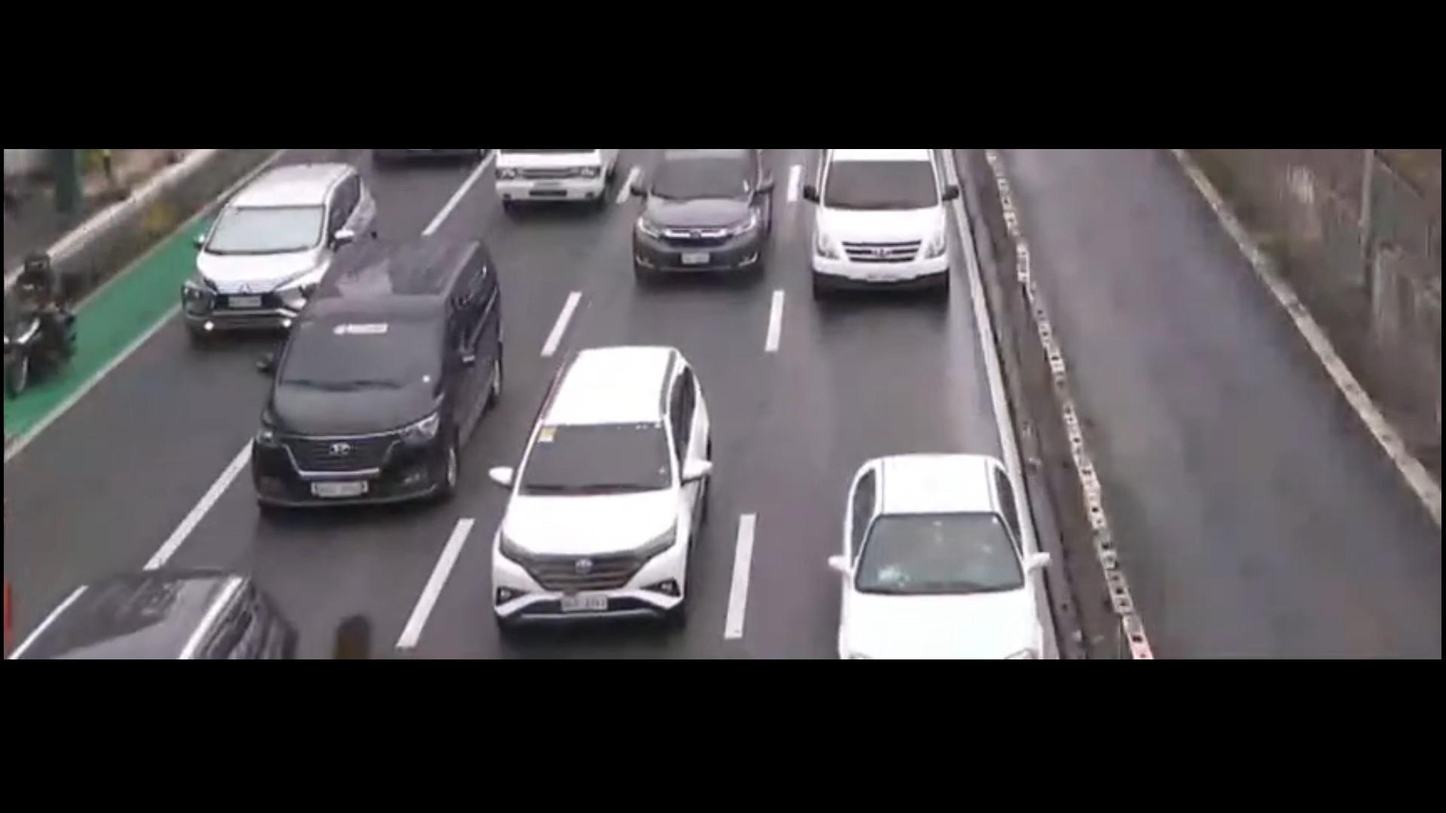Motorcycle: (0, 228, 111, 402)
SUV: (462, 345, 763, 654), (164, 149, 390, 344), (782, 157, 972, 299), (609, 158, 786, 300)
Sedan: (791, 431, 1069, 662)
Van: (221, 230, 519, 513)
